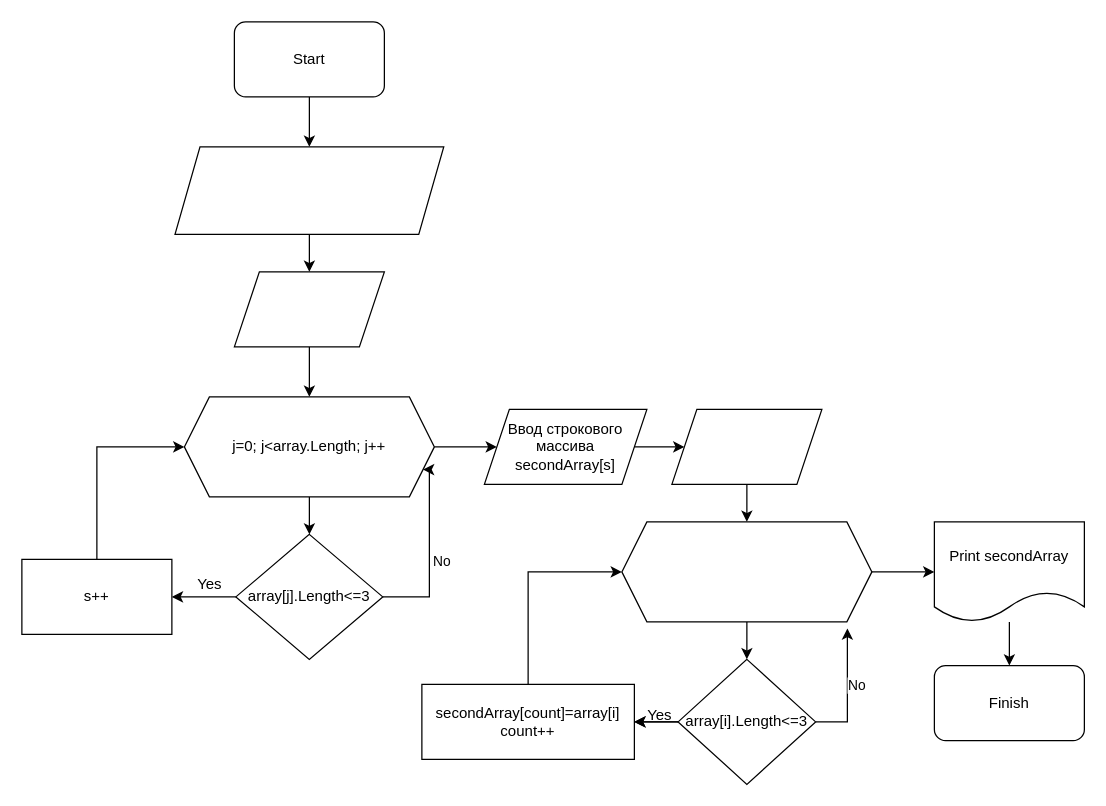
Some shapes in this 1106 by 806 pixel diagram are drawn without their labels. Here are the shapes that lost their labels. From the top down, the centre of each, then its label:
At (x=309, y=190): "Ввод строкового массива array".
At (x=308, y=309): "Ввод s = 0".
At (x=746, y=446): "Ввод count = 0".
At (x=746, y=571): "i=0; i<array.Lenght; i++".
